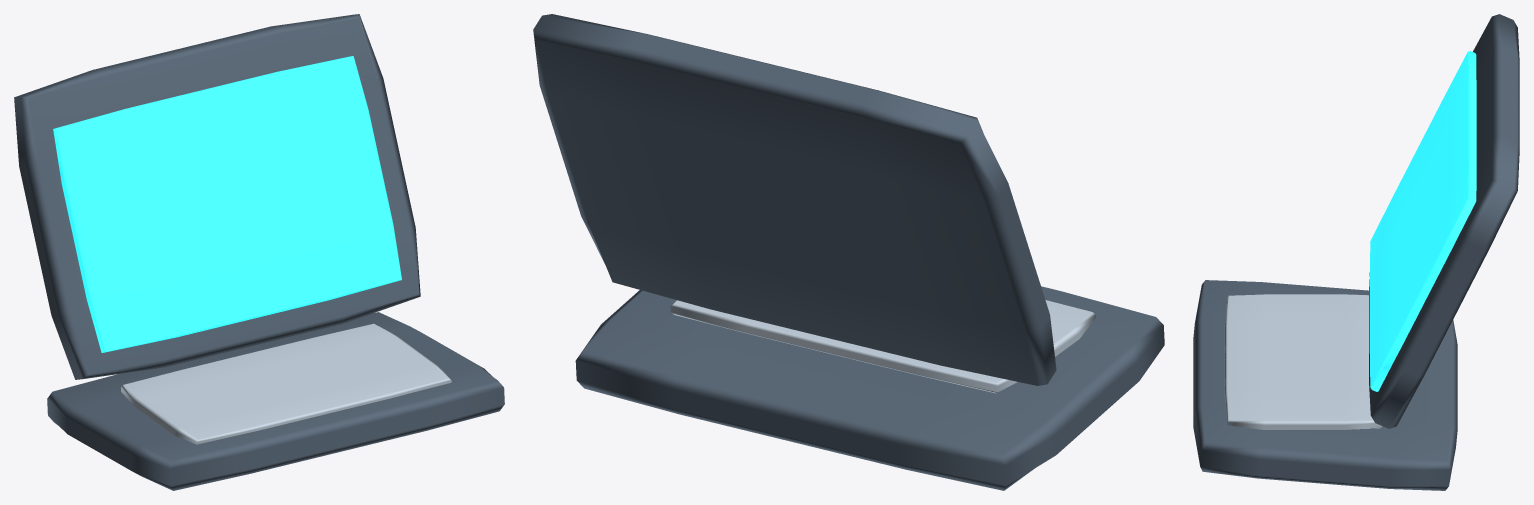
The model's file is notebook-holo.glb.
The picture shows the model from 3 angles, left to right: view 1: azimuth 30°, elevation 25°; view 2: azimuth 150°, elevation 25°; view 3: azimuth 270°, elevation 25°; orthographic projection. The views are drawn at different scales.
Visible parts, largest first — view 1: Glow, Screen, Base, Keys; view 2: Screen, Base, Keys; view 3: Base, Keys, Glow, Screen.
Boxes of the visible parts, x1=… form: Glow: x1=53, y1=56, x2=401, y2=352; Screen: x1=14, y1=14, x2=420, y2=379; Base: x1=47, y1=312, x2=504, y2=490; Keys: x1=121, y1=323, x2=451, y2=444; Screen: x1=533, y1=14, x2=1056, y2=385; Base: x1=575, y1=286, x2=1164, y2=490; Keys: x1=670, y1=300, x2=1095, y2=393; Base: x1=1193, y1=280, x2=1457, y2=490; Keys: x1=1224, y1=294, x2=1381, y2=429; Glow: x1=1369, y1=51, x2=1476, y2=391; Screen: x1=1369, y1=14, x2=1519, y2=428.
Size of the model in its own units: 1.62 by 1.36 by 1.26.
